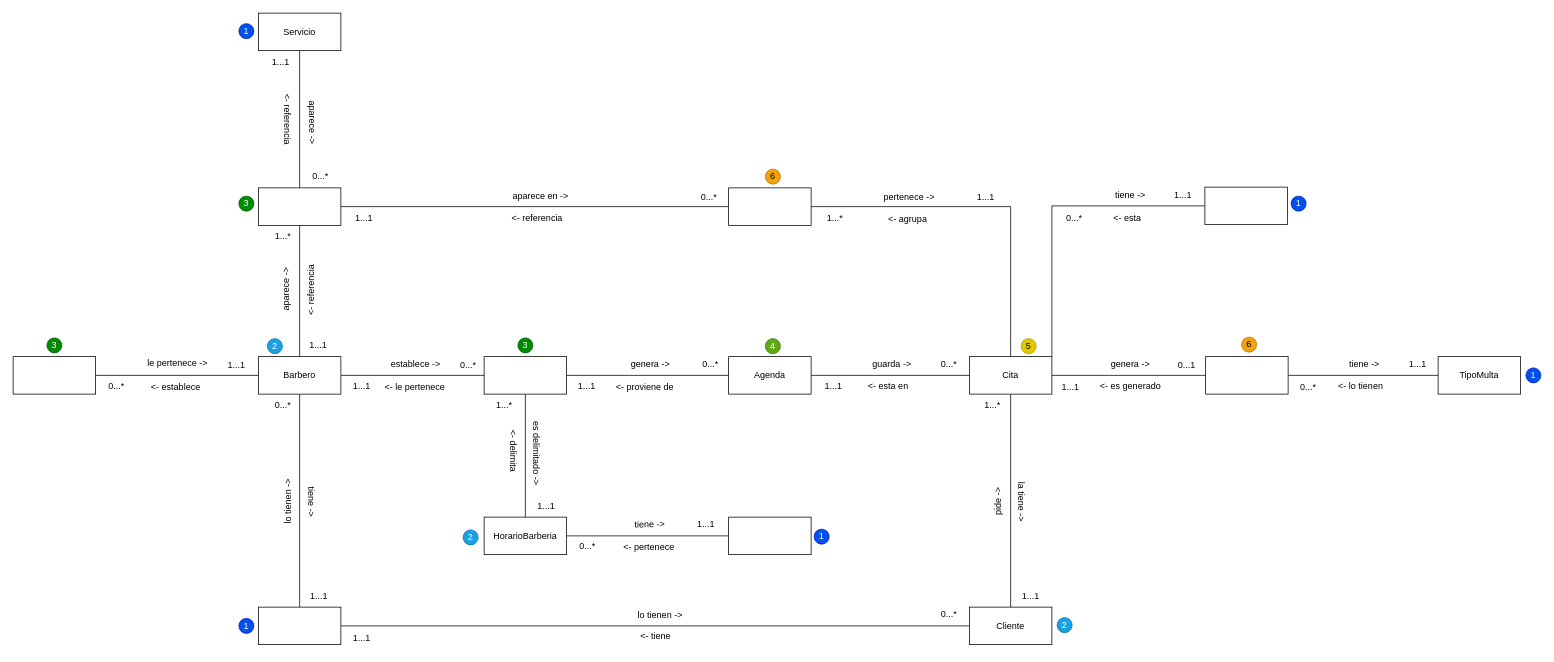
Image size: 1554x662. Some labels were removed from this diagram. Here are the shapes that lost their labels. From the top down, the centre of each, then its label:
At [299,206]: "BarberoServicio".
At [769,206]: "CitaServicio".
At [1245,205]: "Estado".
At [54,375]: "Bloqueo".
At [525,375]: "HorarioBarbero".
At [1246,375]: "Multa".
At [769,535]: "DiaDeLaSemana".
At [299,625]: "PrefijoCelular".
